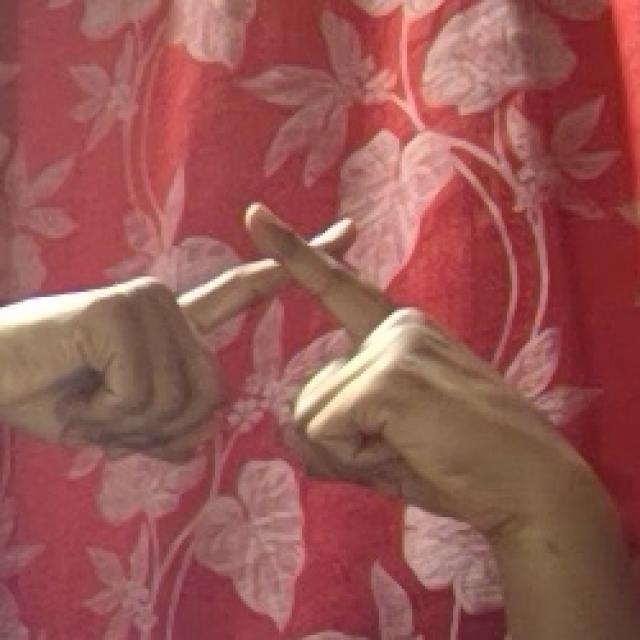Alphabet-X: (0, 167, 561, 550)
